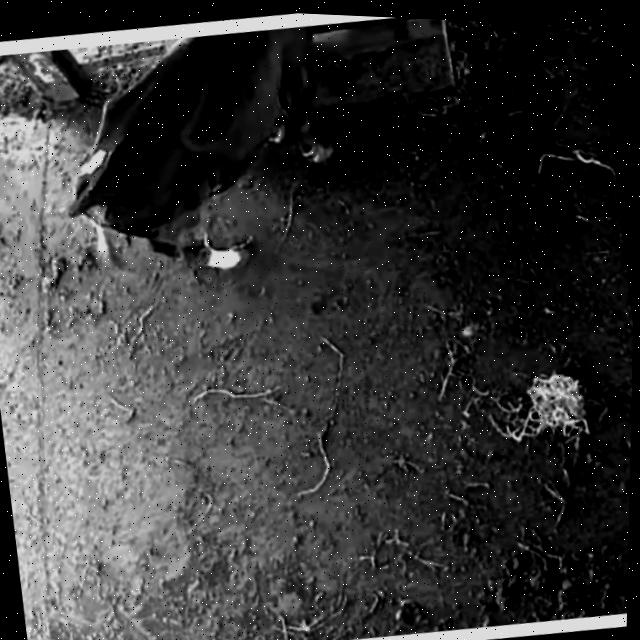drink: (271, 12, 422, 65)
